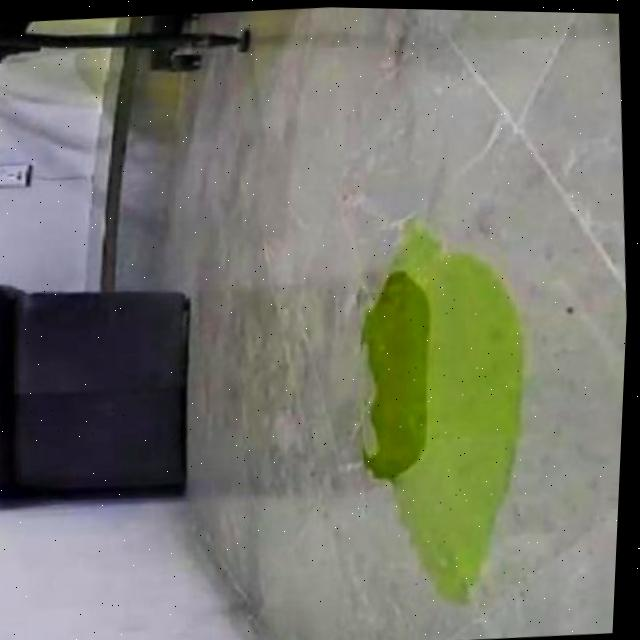spillage: (368, 215, 529, 596)
